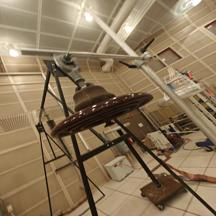insulator: (49, 81, 153, 140)
